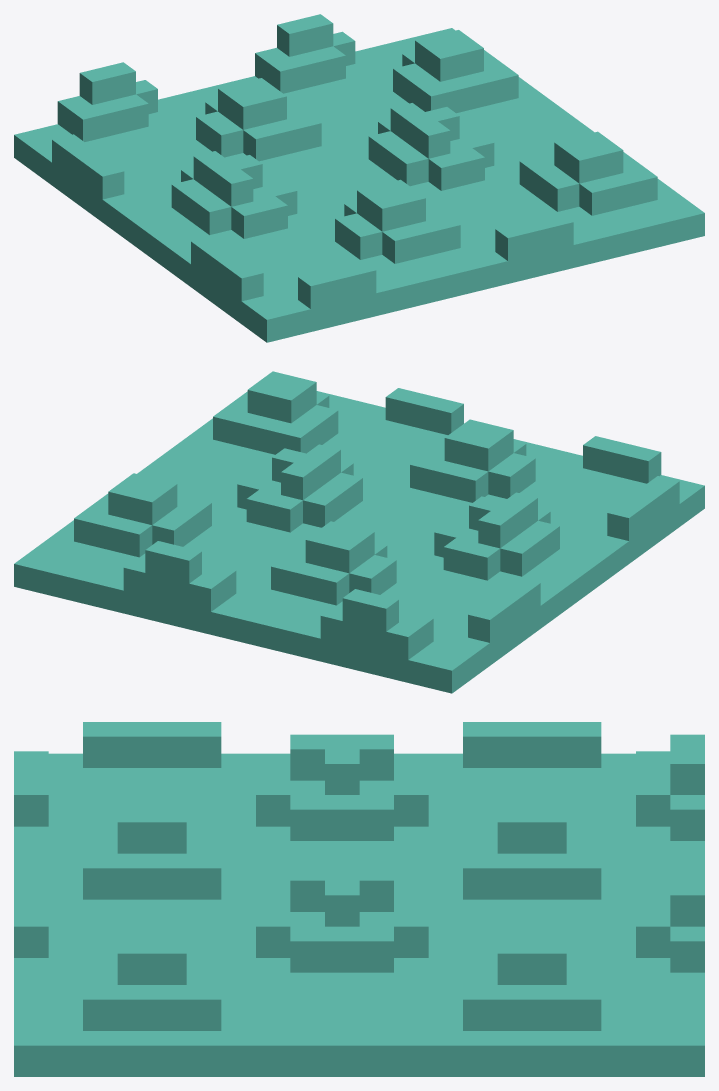
File: alien-biosphere-moss-tile-e052d972__22764.glb
3 renders of one model, top to bottom at view 1: azimuth 30°, elevation 25°; view 2: azimuth 150°, elevation 25°; view 3: azimuth 270°, elevation 25°, orthographic. The views are drawn at different scales.
Visible parts, largest first — view 1: moss-tile; view 2: moss-tile; view 3: moss-tile.
Part boxes in pixels (left/top/right/bottom): moss-tile: left=14, top=14, right=704, bottom=342; moss-tile: left=14, top=371, right=704, bottom=693; moss-tile: left=14, top=722, right=704, bottom=1076.
Bounding box in the file's own units: 4 × 0.6001 × 4.
